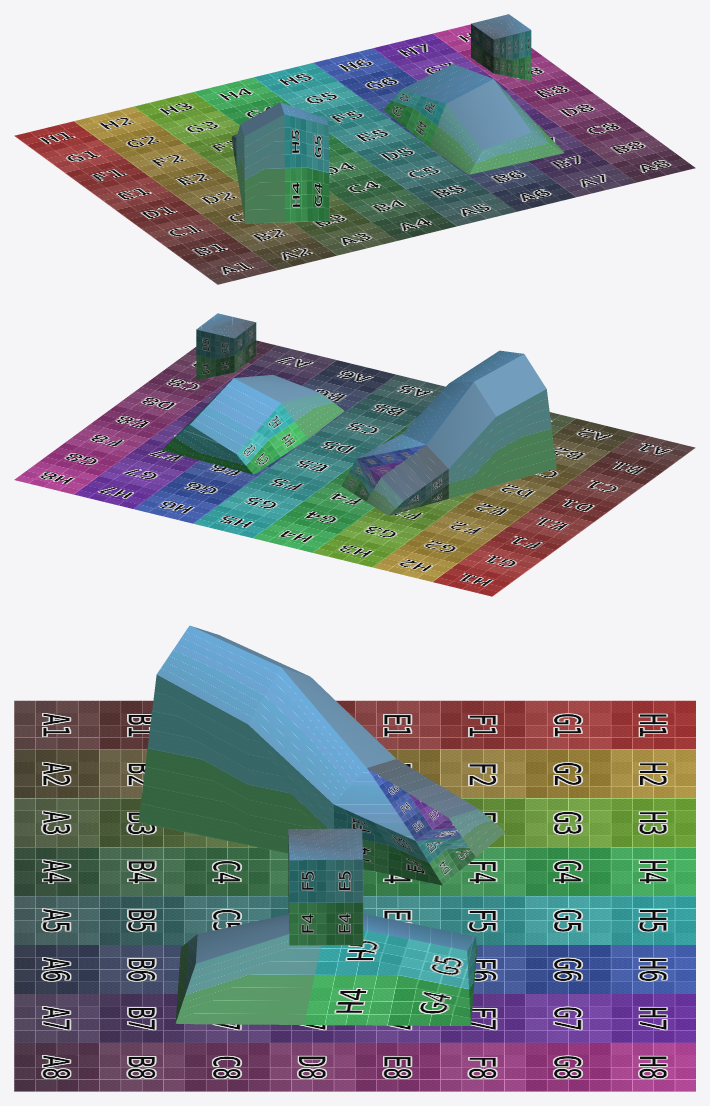
File: Collisions.gltf
3 views of the same model, one above another, from view 1: azimuth 30°, elevation 25°; view 2: azimuth 150°, elevation 25°; view 3: azimuth 270°, elevation 25° (orthographic). The views are drawn at different scales.
Parts seen in each view (by area): view 1: Ground, SecRamp2, Ramp3, Ramp6, SecRamp1, Obstacle; view 2: Ground, SecRamp1, Ramp6, Ramp5, Ramp4, Obstacle, SecRamp2, Ramp1, Ramp2, Ramp3; view 3: Ground, Ramp3, SecRamp1, Ramp2, SecRamp2, Ramp1, Obstacle, Ramp4, Ramp5.
Boxes of the visible parts, x1,y1,x2,y2 form: Ground: (14,24,695,284); SecRamp2: (429,79,564,174); Ramp3: (280,102,329,222); Ramp6: (240,102,285,223); SecRamp1: (384,64,492,146); Obstacle: (471,14,531,80); Ground: (14,340,695,596); SecRamp1: (162,378,307,474); Ramp6: (474,354,556,485); Ramp5: (426,382,496,498); Ramp4: (366,445,448,515); Obstacle: (196,313,256,380); SecRamp2: (234,375,344,438); Ramp1: (341,434,425,501); Ramp2: (402,382,473,444); Ramp3: (449,350,523,383); Ground: (14,700,695,1091); Ramp3: (138,625,280,845); SecRamp1: (304,913,476,1025); Ramp2: (248,667,366,853); SecRamp2: (175,914,320,1024); Ramp1: (334,768,475,885); Obstacle: (288,828,363,945); Ramp4: (367,759,505,856); Ramp5: (281,667,395,767).
Size of the model in its own units: 41.61 by 8.75 by 30.68.
1 material, 1 textured.
